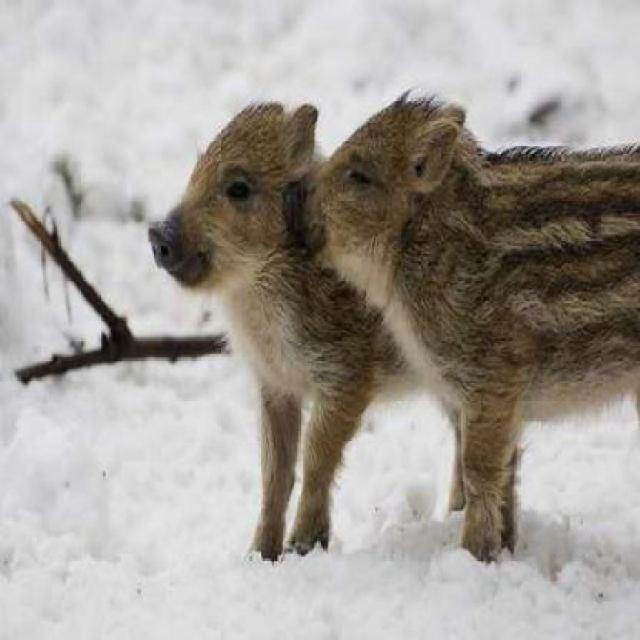Boar: (286, 83, 639, 565), (121, 91, 392, 529)
